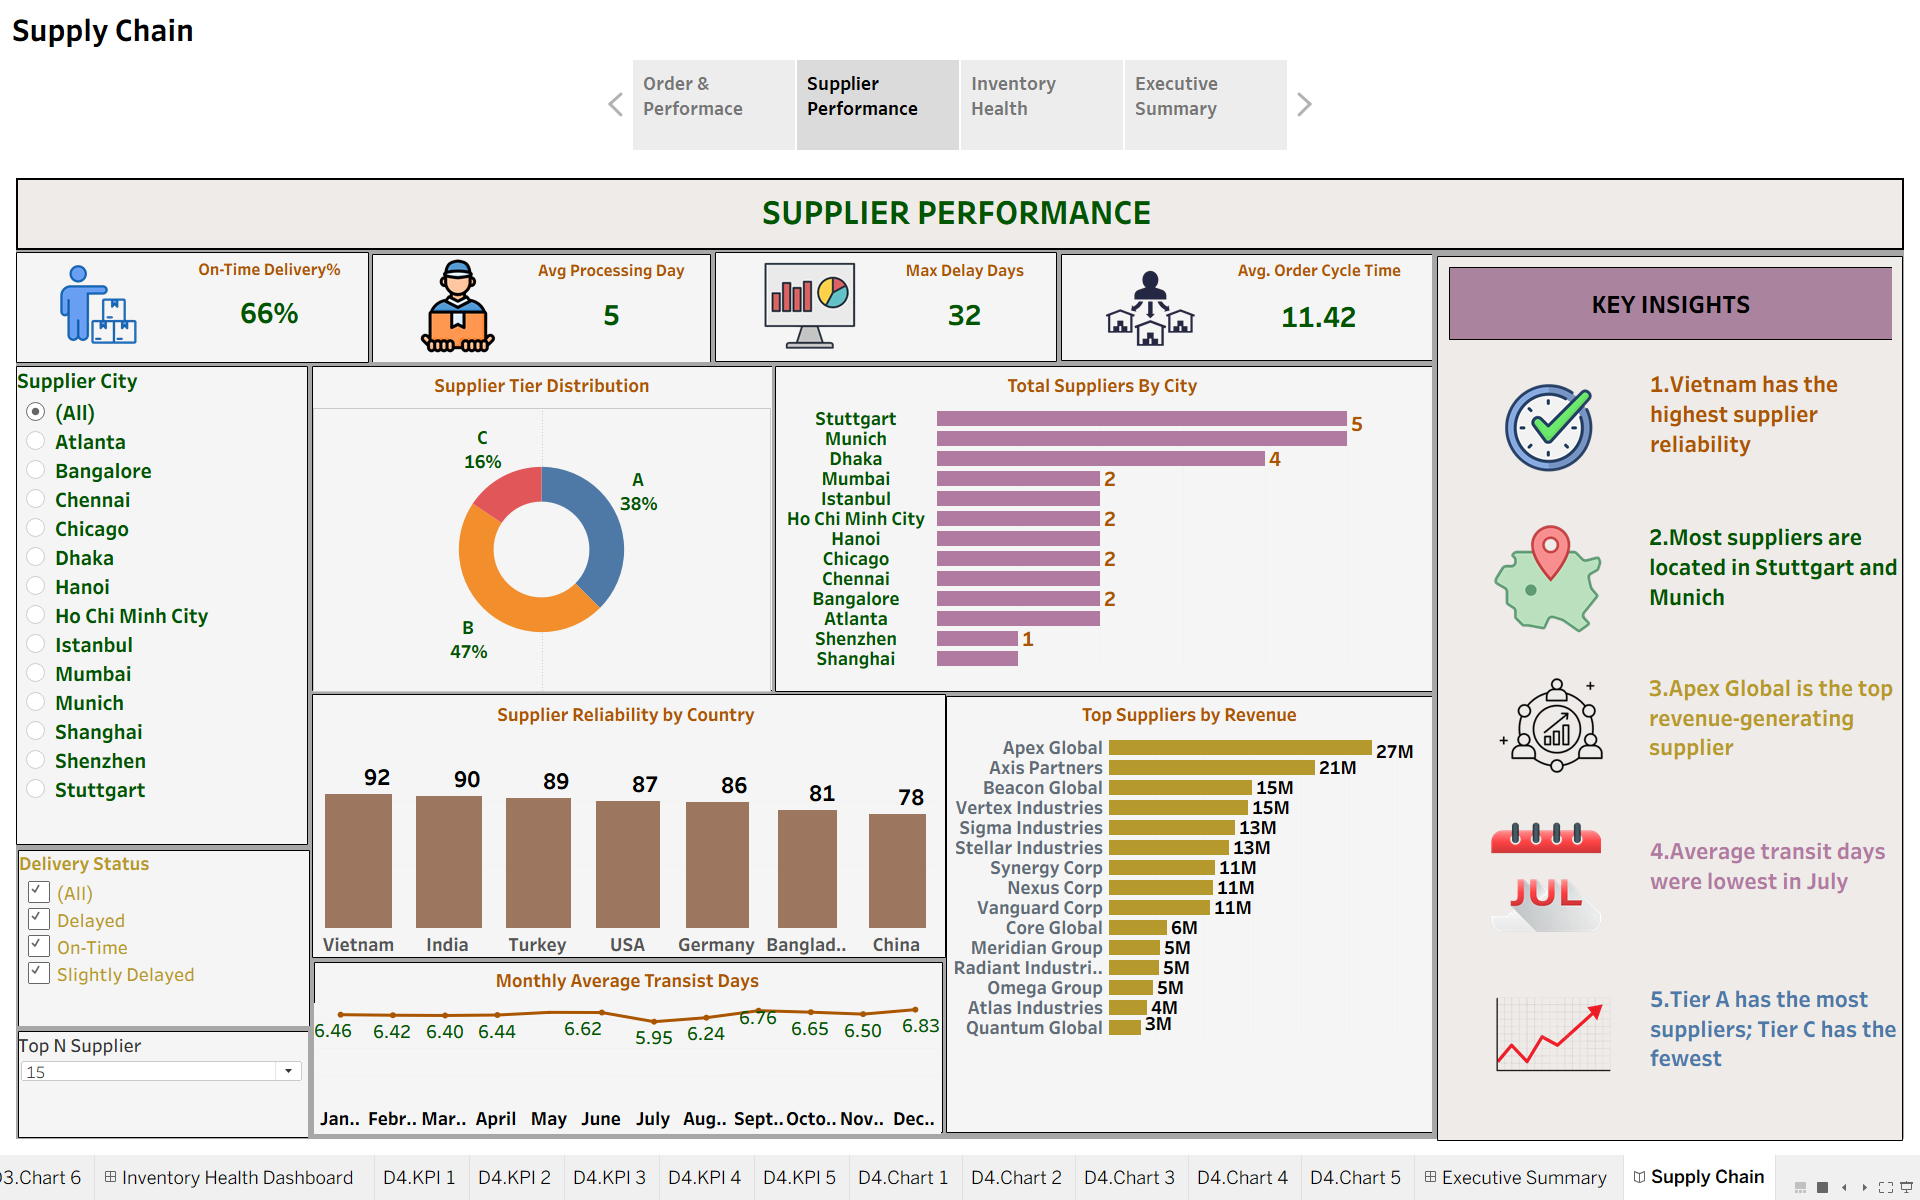

This screenshot's page, from the dashboard's own definition file:
{"tool":"tableau","page":{"name":"Supplier Performance","canvas":[1000,1000],"units":"permille","ordinal":3},"visuals":[{"type":"text","box":[5.6,13.5,985,57.5]},{"type":"image","param":"C:/Users/shrut/Downloads/supplychain_tableau_dashboardfinal.twb Files/Image/moni","box":[375.3,50.1,92.9,177.3]},{"type":"image","param":"C:/Users/shrut/Downloads/supplychain_tableau_dashboardfinal.twb Files/Image/What","box":[564.8,72.1,85.4,136.9]},{"type":"worksheet","title":"D1.KPI 1","mark":"Automatic","box":[86.8,85.6,101.3,107.6]},{"type":"worksheet","title":"D1.KPI 2","mark":"Automatic","box":[267,86.8,100.1,106.4]},{"type":"worksheet","title":"D1.KPI 3","mark":"Automatic","box":[456.3,86.8,92.2,102.7]},{"type":"worksheet","title":"D1.KPI 4","mark":"Automatic","box":[631.7,86.8,114.1,105.1]},{"type":"image","param":"C:/Users/shrut/Downloads/supplychain_tableau_dashboardfinal.twb Files/Image/What","box":[210.1,88,59.3,101.5]},{"type":"image","param":"C:/Users/shrut/Downloads/supplychain_tableau_dashboardfinal.twb Files/Image/What","box":[25.4,94.1,74.5,85.6]},{"type":"text","box":[756.7,99,233.1,74.6]},{"type":"text","box":[860.2,187,133.8,123.5]},{"type":"image","param":"C:/Users/shrut/Downloads/supplychain_tableau_dashboardfinal.twb Files/Image/What","box":[773.6,194.4,76.3,138.1]},{"type":"filter","title":"D2 .Chart 2","param":"[federated.126etw91dogkyb0zrq07615un7oo].[none:Supplier_City:nk]","box":[4.8,200.5,150.7,486.6]},{"type":"worksheet","title":"D2.Chart 5","mark":"Pie","cols":["Calculation_1891465458671628","Calculation_1891465458733070"],"box":[160.2,202.9,240.3,331.3]},{"type":"worksheet","title":"D2 .Chart 2","mark":"Automatic","rows":["Supplier_City"],"cols":["Supplier_ID (Dim!Supplier)"],"box":[403.5,202.9,342.8,327.6]},{"type":"text","box":[859.7,332.5,135.3,146.7]},{"type":"image","param":"C:/Users/shrut/Downloads/supplychain_tableau_dashboardfinal.twb Files/Image/What","box":[779.1,360.6,69,116.1]},{"type":"image","param":"C:/Users/shrut/Downloads/supplychain_tableau_dashboardfinal.twb Files/Image/imag","box":[764.3,478,104.7,176]},{"type":"text","box":[859.6,484.1,134.4,151.6]},{"type":"worksheet","title":"D2 .Chart 1","mark":"Automatic","rows":["Reliability_Score"],"cols":["Supplier_Country"],"box":[160.8,539.1,329.8,266.5]},{"type":"worksheet","title":"D2.Chart 3","mark":"Automatic","rows":["Supplier_Name"],"cols":["Revenue"],"box":[493.9,539.1,253.6,442.5]},{"type":"text","box":[860.2,646.7,133.8,129.6]},{"type":"image","param":"C:/Users/shrut/Downloads/supplychain_tableau_dashboardfinal.twb Files/Image/073c","box":[779.1,667.5,63,112.5]},{"type":"filter","title":"D2.Chart 3","param":"[federated.126etw91dogkyb0zrq07615un7oo].[none:Delivery_Status:nk]","box":[6,695.6,151.6,176]},{"type":"text","box":[860.2,798.3,133.8,160.2]},{"type":"worksheet","title":"D2. Chart 4","mark":"Automatic","rows":["Transit_Days"],"cols":["Ship_Date"],"box":[160.8,811.7,329.5,174.8]},{"type":"image","param":"C:/Users/shrut/Downloads/supplychain_tableau_dashboardfinal.twb Files/Image/What","box":[777.9,828.9,66.6,118.6]},{"type":"parameter","param":"[Parameters].[Parameter 1]","box":[5.5,882.6,150.5,105.1]}]}

Visuals, with their boxes on the dashboard's canvas, which has no fixed pixel size, in thousandths of its width and height (x1, y1, x2, y2). These are canvas units, not pixel positions in the 1920x1200 screenshot, which may show the page scaled, cropped or inside an application window:
text: BBox(6, 14, 991, 71)
image: BBox(375, 50, 468, 227)
image: BBox(565, 72, 650, 209)
"D1.KPI 1" worksheet: BBox(87, 86, 188, 193)
"D1.KPI 2" worksheet: BBox(267, 87, 367, 193)
"D1.KPI 3" worksheet: BBox(456, 87, 548, 190)
"D1.KPI 4" worksheet: BBox(632, 87, 746, 192)
image: BBox(210, 88, 269, 190)
image: BBox(25, 94, 100, 180)
text: BBox(757, 99, 990, 174)
text: BBox(860, 187, 994, 310)
image: BBox(774, 194, 850, 332)
"D2 .Chart 2" filter: BBox(5, 200, 156, 687)
"D2.Chart 5" worksheet (Pie marks): BBox(160, 203, 400, 534)
"D2 .Chart 2" worksheet: BBox(404, 203, 746, 530)
text: BBox(860, 332, 995, 479)
image: BBox(779, 361, 848, 477)
image: BBox(764, 478, 869, 654)
text: BBox(860, 484, 994, 636)
"D2 .Chart 1" worksheet: BBox(161, 539, 491, 806)
"D2.Chart 3" worksheet: BBox(494, 539, 748, 982)
text: BBox(860, 647, 994, 776)
image: BBox(779, 668, 842, 780)
"D2.Chart 3" filter: BBox(6, 696, 158, 872)
text: BBox(860, 798, 994, 958)
"D2. Chart 4" worksheet: BBox(161, 812, 490, 986)
image: BBox(778, 829, 844, 948)
parameter: BBox(6, 883, 156, 988)
